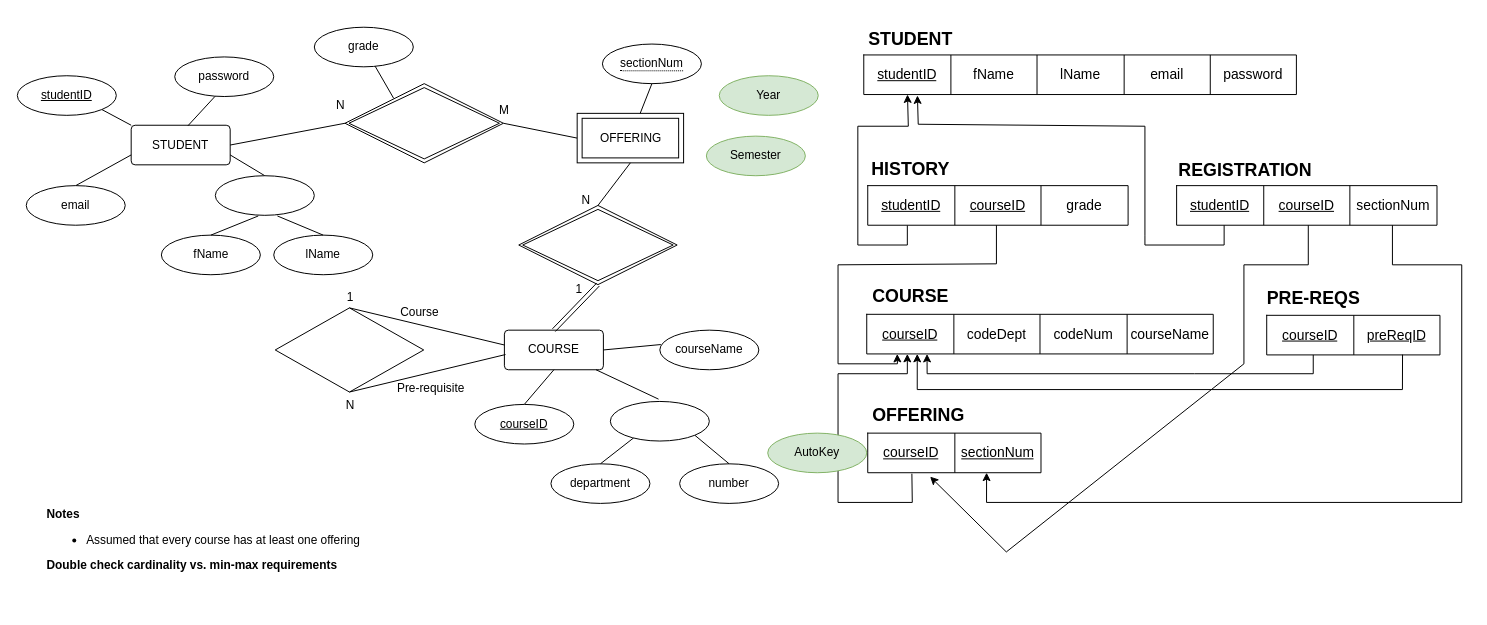
Image size: 1487x625. Some labels were removed from this diagram. The shapes that lost their labels are listed below. From the top down, each one's centre as x and y in pixels, then its label:
[423,123]: REGISTERS
[264,195]: name
[597,244]: OFFERS
[349,349]: REQUIRES
[659,420]: courseCode
